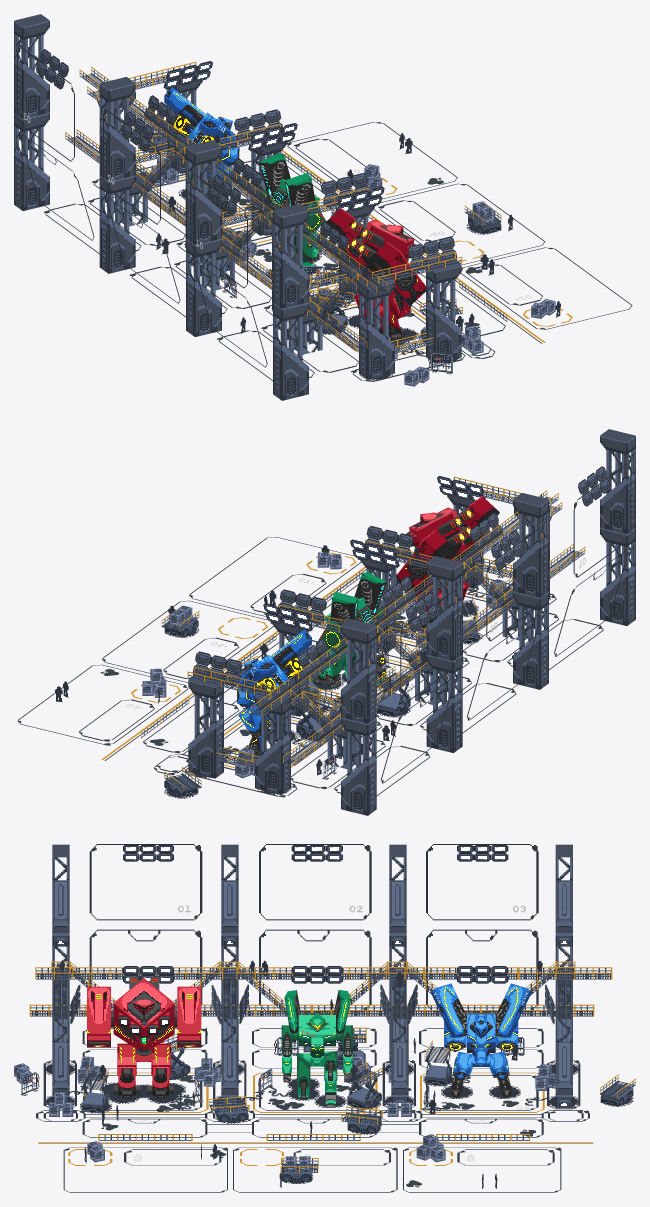
Rendered from mech_hangar.glb.
3 views of the same model, one above another, from view 1: azimuth 30°, elevation 25°; view 2: azimuth 150°, elevation 25°; view 3: azimuth 270°, elevation 25° (orthographic). The views are drawn at different scales.
Visible parts, largest first — view 1: OmegaXD, Cube.026, Cube.025, Cube.027, Cube.018, Cube.028, Cube.003, Cube.019, Cube.020, Cube.002, AlphaUWU, Cube.017 (+29 smaller); view 2: OmegaXD, AlphaUWU, Cube.009, Cube.028, Cube.026, Cube.025, Cube.027, Cube.014, Cube.017, Cube.018, Cube.015, Cube.020 (+30 smaller); view 3: OmegaXD, Cube.009, AlphaUWU, Cube.028, Cube.027, Cube.026, Cube.025, Cube.014, Cube.005, Cube.001, Cube.002, Plane.030 (+40 smaller).
Part boxes in pixels (bbox=[...]): OmegaXD: bbox=[326, 208, 425, 342]; Cube.026: bbox=[273, 204, 308, 308]; Cube.025: bbox=[186, 140, 221, 244]; Cube.027: bbox=[99, 77, 135, 181]; Cube.018: bbox=[99, 175, 135, 273]; Cube.028: bbox=[14, 14, 49, 118]; Cube.003: bbox=[359, 276, 394, 379]; Cube.019: bbox=[273, 302, 308, 400]; Cube.020: bbox=[186, 238, 221, 336]; Cube.002: bbox=[426, 259, 461, 363]; AlphaUWU: bbox=[258, 153, 325, 269]; Cube.017: bbox=[14, 112, 49, 210]; OmegaXD: bbox=[396, 496, 499, 628]; AlphaUWU: bbox=[311, 572, 386, 687]; Cube.009: bbox=[237, 629, 311, 754]; Cube.028: bbox=[341, 619, 376, 723]; Cube.026: bbox=[600, 429, 635, 533]; Cube.025: bbox=[513, 493, 548, 597]; Cube.027: bbox=[426, 556, 462, 660]; Cube.014: bbox=[188, 674, 223, 778]; Cube.017: bbox=[341, 717, 376, 815]; Cube.018: bbox=[426, 654, 462, 752]; Cube.015: bbox=[255, 691, 290, 794]; Cube.020: bbox=[513, 591, 548, 689]; OmegaXD: bbox=[87, 977, 201, 1098]; Cube.009: bbox=[431, 983, 530, 1096]; AlphaUWU: bbox=[281, 990, 352, 1107]; Cube.028: bbox=[555, 844, 572, 946]; Cube.027: bbox=[389, 844, 406, 946]; Cube.026: bbox=[52, 844, 69, 946]; Cube.025: bbox=[221, 844, 238, 946]; Cube.014: bbox=[555, 1006, 572, 1108]; Cube.005: bbox=[391, 1006, 408, 1108]; Cube.001: bbox=[221, 1006, 238, 1103]; Cube.002: bbox=[52, 1006, 69, 1108]; Plane.030: bbox=[518, 967, 612, 979].
Size of the model in its own units: 27.73 by 13.07 by 41.06.
4 materials, 4 textured.
